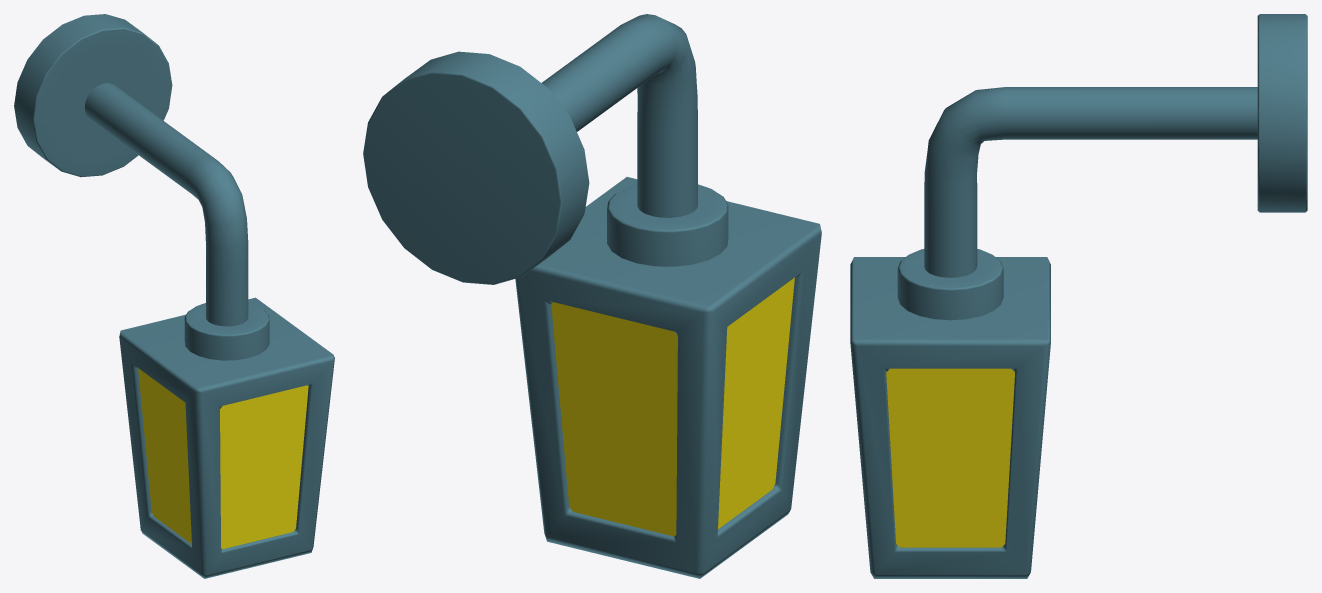
Rendered from City_5_Wall_Lamp_1.glb.
3 renders of one model, left to right at view 1: azimuth 30°, elevation 25°; view 2: azimuth 150°, elevation 25°; view 3: azimuth 270°, elevation 25°, orthographic. The views are drawn at different scales.
Parts seen in each view (by area): view 1: City_5_Wall_Lamp_1; view 2: City_5_Wall_Lamp_1; view 3: City_5_Wall_Lamp_1.
Part boxes in pixels (x1,y1,x2,y2): City_5_Wall_Lamp_1: (14, 14, 334, 578); City_5_Wall_Lamp_1: (363, 14, 821, 578); City_5_Wall_Lamp_1: (850, 14, 1307, 578).
Size of the model in its own units: 0.2762 by 0.7963 by 0.6296.
1 material, 1 textured.
